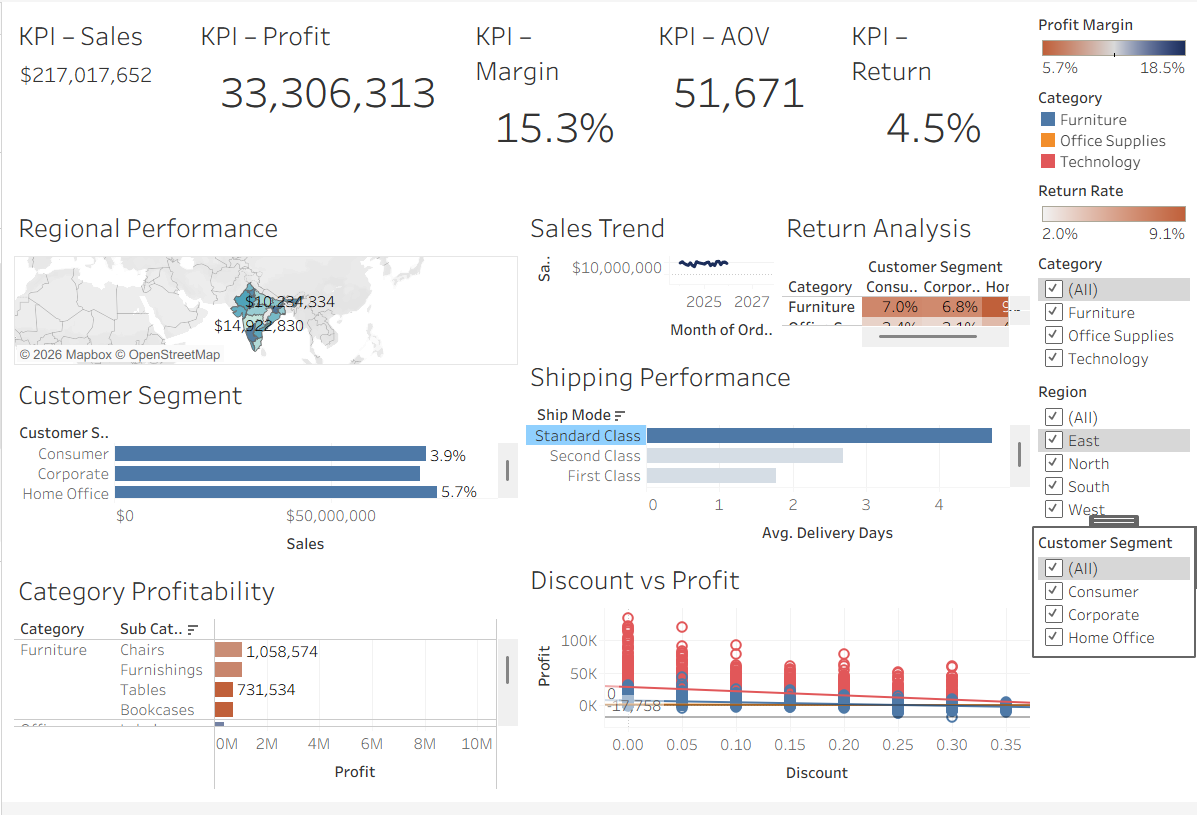

The dashboard page shown, as its layout file describes it:
{"tool":"tableau","page":{"name":"Dashboard 1","canvas":[1200,800],"ordinal":0},"visuals":[{"type":"worksheet","title":"KPI – Sales","mark":"Text","box":[8,8,182,192]},{"type":"worksheet","title":"KPI – Profit","mark":"Text","box":[190,8,275,192]},{"type":"worksheet","title":"KPI – Margin","mark":"Text","box":[465,8,183,192]},{"type":"worksheet","title":"KPI – AOV","mark":"Text","box":[648,8,193,192]},{"type":"worksheet","title":"KPI – Return","mark":"Text","box":[841,8,191,192]},{"type":"legend","title":"Category Profitability","param":"[federated.0u7lzpp0jt2nqm1g4v8ok17r5bjo].[usr:Calculation_1635540993736704:qk]","box":[1032,8,160,73]},{"type":"legend","title":"Discount vs Profit","param":"[federated.0u7lzpp0jt2nqm1g4v8ok17r5bjo].[none:category:nk]","box":[1032,81,160,93]},{"type":"legend","title":"Return Analysis","param":"[federated.0u7lzpp0jt2nqm1g4v8ok17r5bjo].[usr:Calculation_1635540994158595:qk]","box":[1032,174,160,73]},{"type":"worksheet","title":"Regional Performance","mark":"Multipolygon","box":[8,200,512,166.5]},{"type":"worksheet","title":"Sales Trend","mark":"Line","rows":["sales"],"cols":["order_date"],"box":[520,200,256,149]},{"type":"worksheet","title":"Return Analysis","mark":"Square","rows":["category"],"cols":["customer_segment"],"box":[776,200,256,149]},{"type":"filter","title":"Category Profitability","param":"[federated.0u7lzpp0jt2nqm1g4v8ok17r5bjo].[none:category:nk]","box":[1032,247,160,128]},{"type":"worksheet","title":"Shipping Performance","mark":"Automatic","rows":["ship_mode"],"cols":["delivery_days"],"box":[520,349,512,203]},{"type":"worksheet","title":"Customer Segment","mark":"Automatic","rows":["customer_segment"],"cols":["sales"],"box":[8,366.5,512,196.5]},{"type":"filter","title":"Regional Performance","param":"[federated.0u7lzpp0jt2nqm1g4v8ok17r5bjo].[none:region:nk]","box":[1032,375,160,151]},{"type":"filter","title":"Customer Segment","param":"[federated.0u7lzpp0jt2nqm1g4v8ok17r5bjo].[none:customer_segment:nk]","box":[1032,526,160,128]},{"type":"worksheet","title":"Discount vs Profit","mark":"Automatic","rows":["profit"],"cols":["discount"],"box":[520,552,512,240]},{"type":"worksheet","title":"Category Profitability","mark":"Automatic","rows":["category","sub_category"],"cols":["profit"],"box":[8,563,512,229]}]}

Visuals, with their boxes in screenshot pixels (x1, y1, x2, y2), scaled from the page's 1200x800 canvas onto the 1197x815 screenshot:
"KPI – Sales" worksheet (Text marks): [8, 8, 190, 204]
"KPI – Profit" worksheet (Text marks): [190, 8, 464, 204]
"KPI – Margin" worksheet (Text marks): [464, 8, 646, 204]
"KPI – AOV" worksheet (Text marks): [646, 8, 839, 204]
"KPI – Return" worksheet (Text marks): [839, 8, 1029, 204]
"Category Profitability" legend: [1029, 8, 1189, 83]
"Discount vs Profit" legend: [1029, 83, 1189, 177]
"Return Analysis" legend: [1029, 177, 1189, 252]
"Regional Performance" worksheet (Multipolygon marks): [8, 204, 519, 373]
"Sales Trend" worksheet (Line marks): [519, 204, 774, 356]
"Return Analysis" worksheet (Square marks): [774, 204, 1029, 356]
"Category Profitability" filter: [1029, 252, 1189, 382]
"Shipping Performance" worksheet: [519, 356, 1029, 562]
"Customer Segment" worksheet: [8, 373, 519, 574]
"Regional Performance" filter: [1029, 382, 1189, 536]
"Customer Segment" filter: [1029, 536, 1189, 666]
"Discount vs Profit" worksheet: [519, 562, 1029, 807]
"Category Profitability" worksheet: [8, 574, 519, 807]
